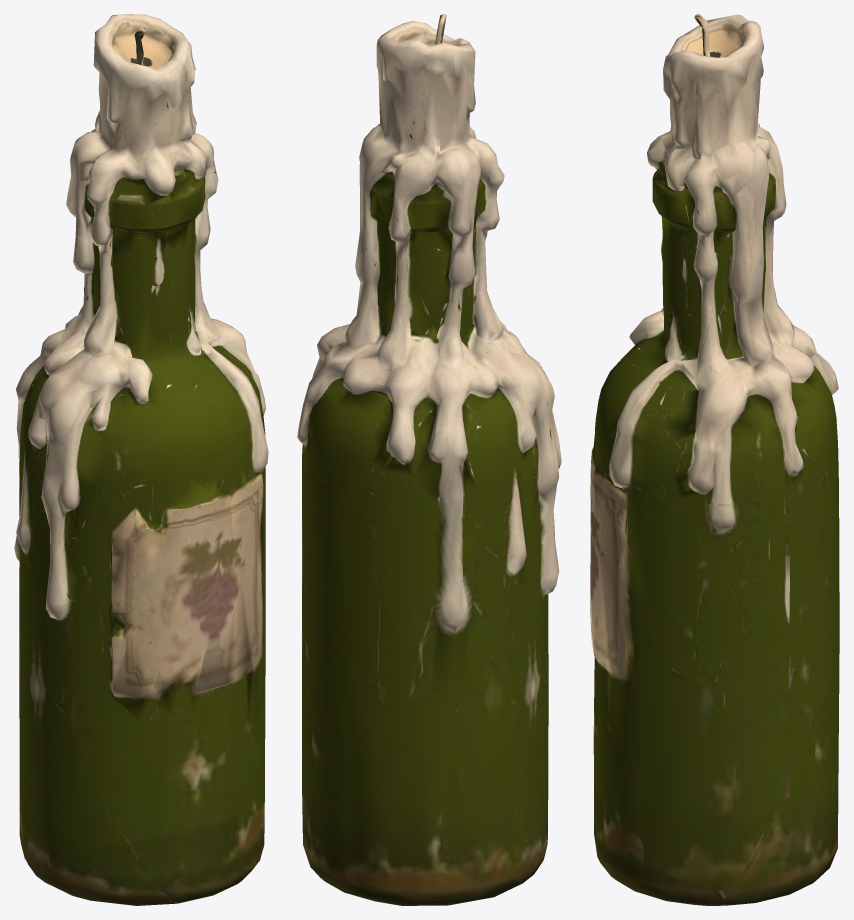
File: d_candlebottle.glb
3 views of the same model, side by side, from view 1: azimuth 30°, elevation 25°; view 2: azimuth 150°, elevation 25°; view 3: azimuth 270°, elevation 25° (orthographic).
Bounding box in the file's own units: 0.5169 × 1.82 × 0.4869.
Materials: 1 (1 with a texture image).
